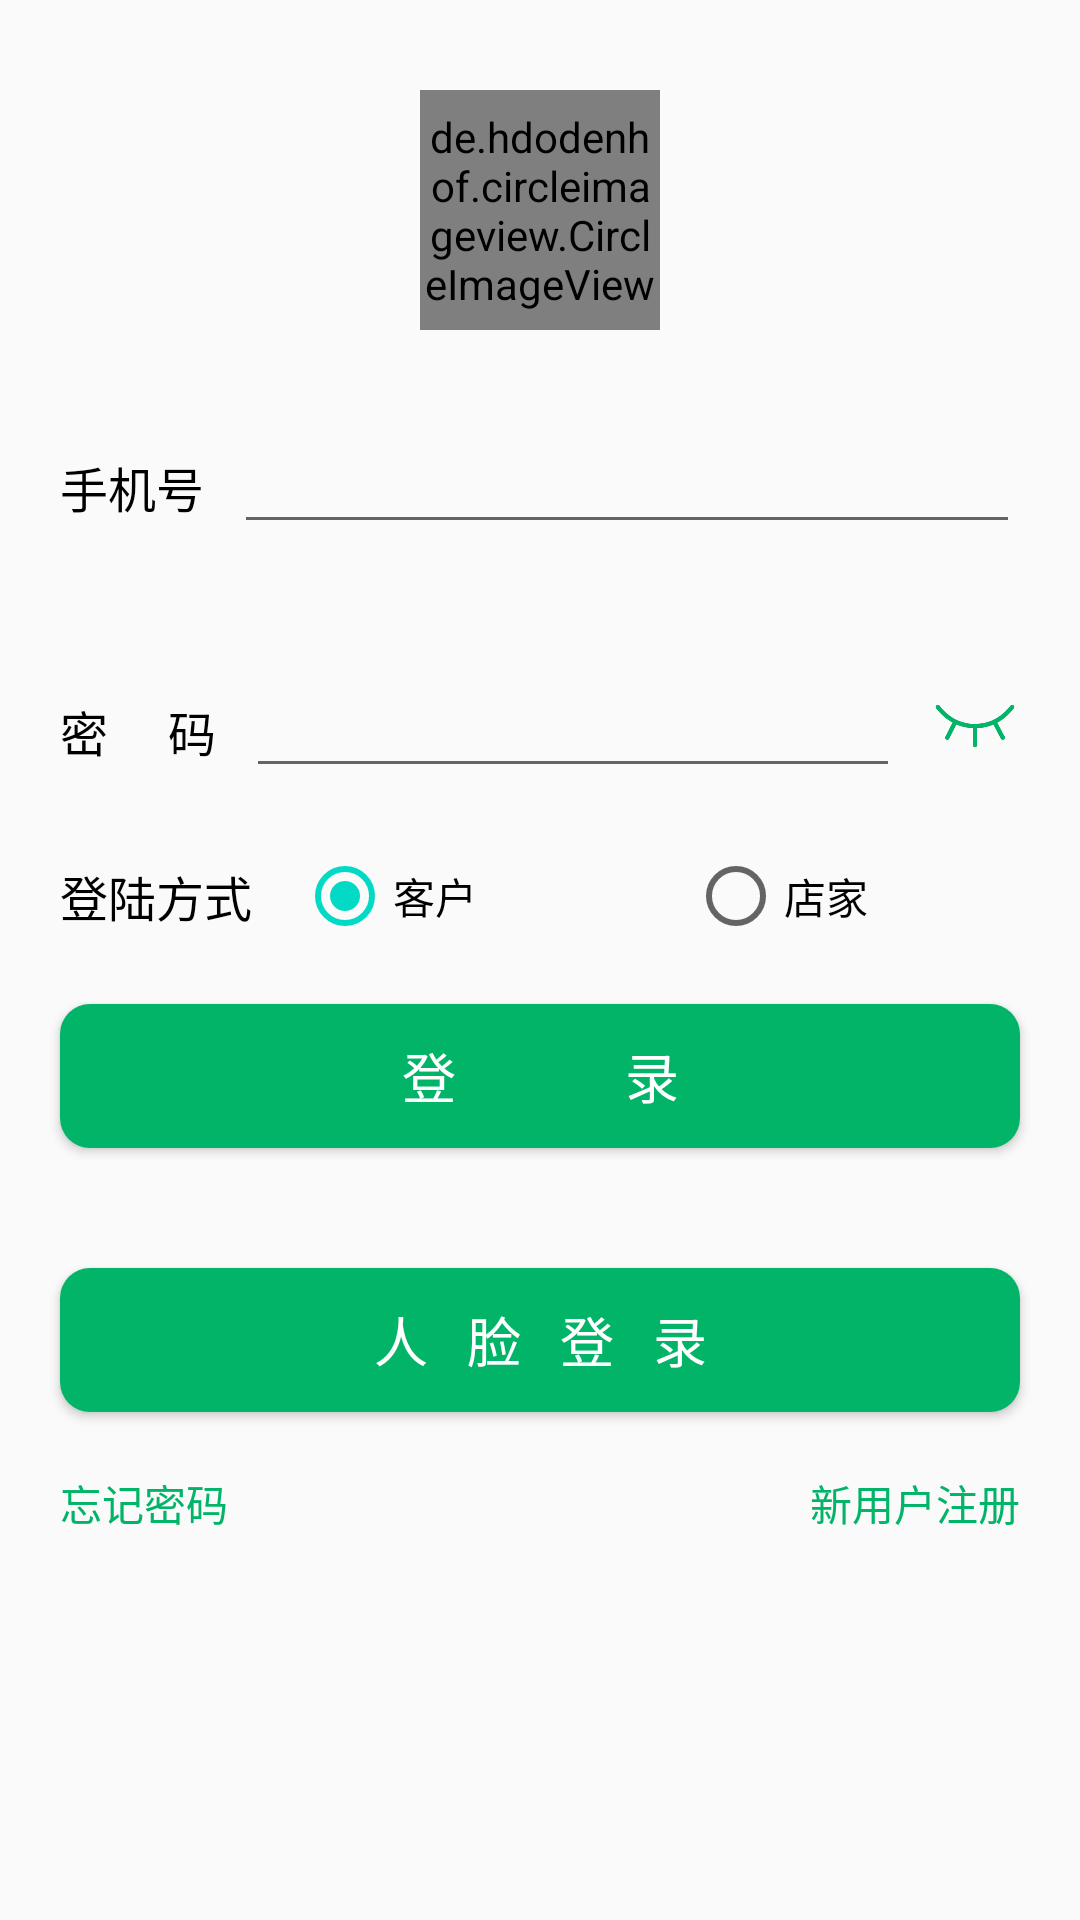

Point at icon controls on the screen. Image size 1080 × 1920, points as (x,y).
pwd unshow: (975,726)
